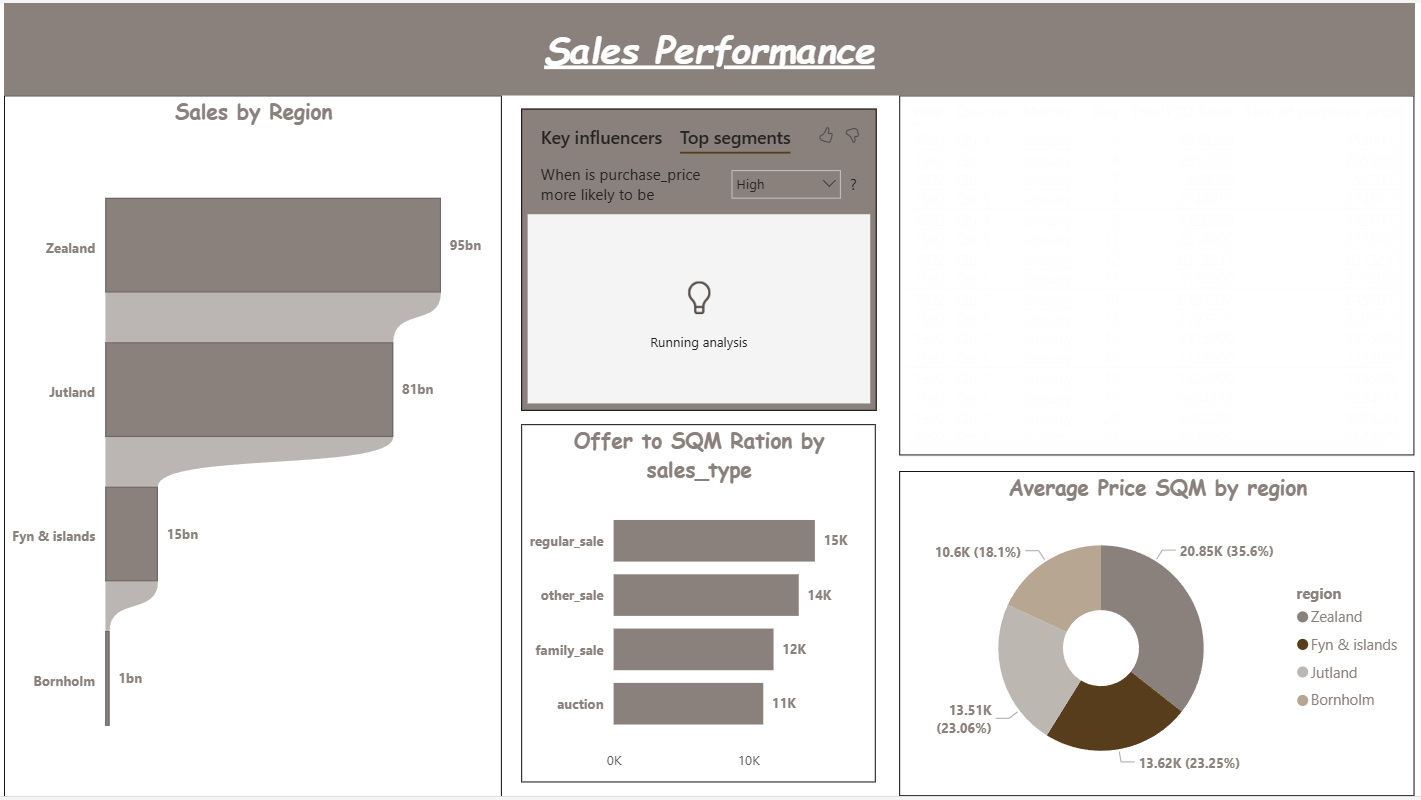

This screenshot's page, from the dashboard's own definition file:
{"tool":"powerbi","page":{"name":"Sales Overview","canvas":[1280,720],"ordinal":1},"visuals":[{"type":"barChart","title":"Sales by Region ","fields":{"Y":["Measures Table.Sales by Region"],"Category":["Housing.region"]},"box":[0,83.8,451.2,636.2],"z":0},{"type":"tableEx","fields":{"Values":["Housing.date.Variation.Date Hierarchy.Year","Housing.date.Variation.Date Hierarchy.Quarter","Housing.date.Variation.Date Hierarchy.Month","Housing.date.Variation.Date Hierarchy.Day","Measures Table.TotalYTD Sales","Sum(Housing.purchase_price)"]},"box":[812.5,83.8,467.5,326.2],"z":1000},{"type":"donutChart","fields":{"Y":["Measures Table.Average Price SQM"],"Category":["Housing.region"]},"box":[812.5,425,467.5,295],"z":2000},{"type":"keyDriversVisual","fields":{"ExplainBy":["Housing.Age"],"Target":["Housing.purchase_price"]},"box":[468.8,96.2,322.5,273.8],"z":3000},{"type":"barChart","fields":{"Category":["Housing.sales_type"],"Y":["Measures Table.Offer to SQM Ration"]},"box":[468.8,382.5,321.2,325],"z":4000},{"type":"shape","box":[0,0,1280,83.8],"z":5000}]}

Visuals, with their boxes in screenshot pixels (x1, y1, x2, y2), scaled from the page's 1280x720 canvas onto the 1421x800 screenshot:
"Sales by Region " barChart: Rect(0, 93, 501, 799)
tableEx - Housing.date.Variation.Date Hierarchy.Year x Housing.date.Variation.Date Hierarchy.Quarter: Rect(902, 93, 1420, 456)
donutChart - Measures Table.Average Price SQM x Housing.region: Rect(902, 472, 1420, 799)
keyDriversVisual - Housing.Age x Housing.purchase_price: Rect(520, 107, 878, 411)
barChart - Housing.sales_type x Measures Table.Offer to SQM Ration: Rect(520, 425, 877, 786)
shape: Rect(0, 0, 1420, 93)
